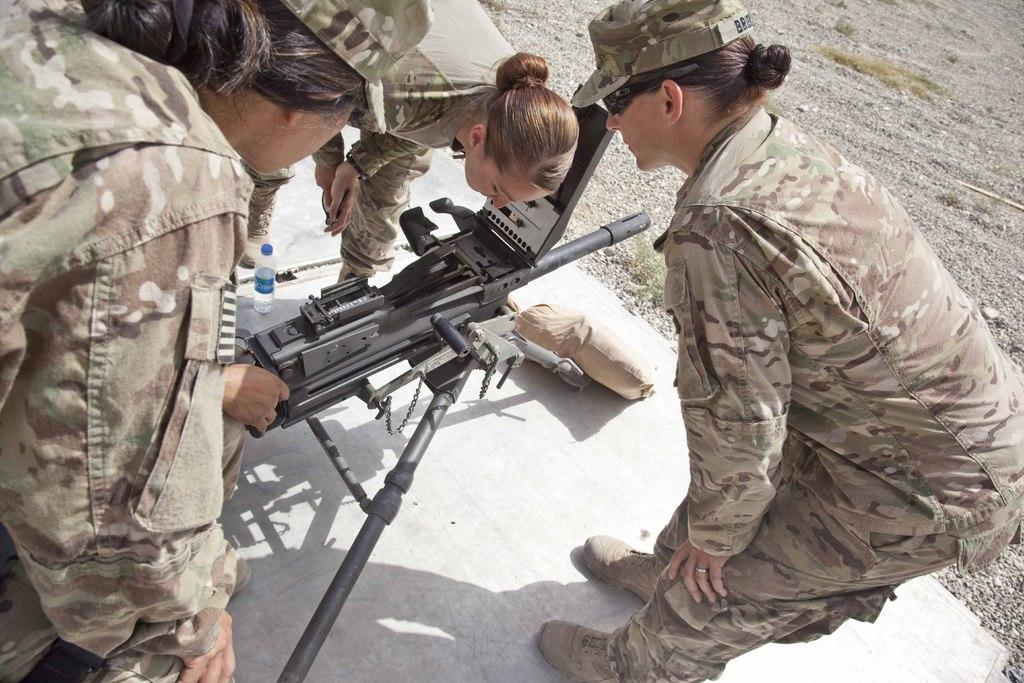Rifle: (229, 83, 652, 682)
